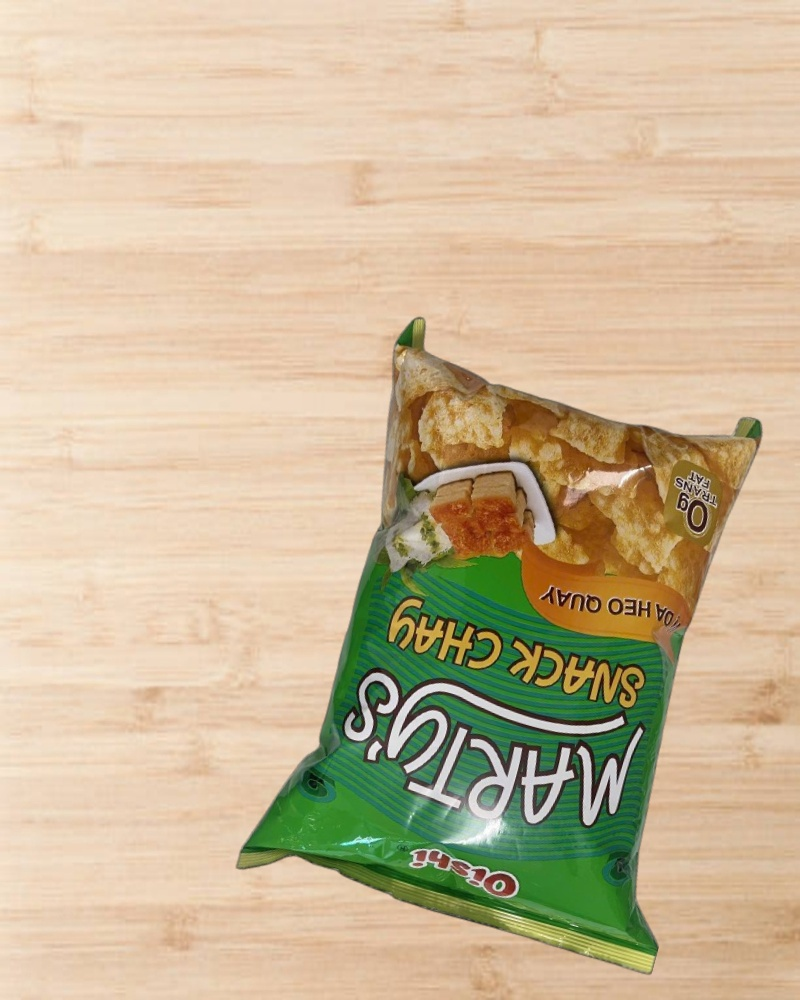Snack chay: (256, 316, 798, 979)
